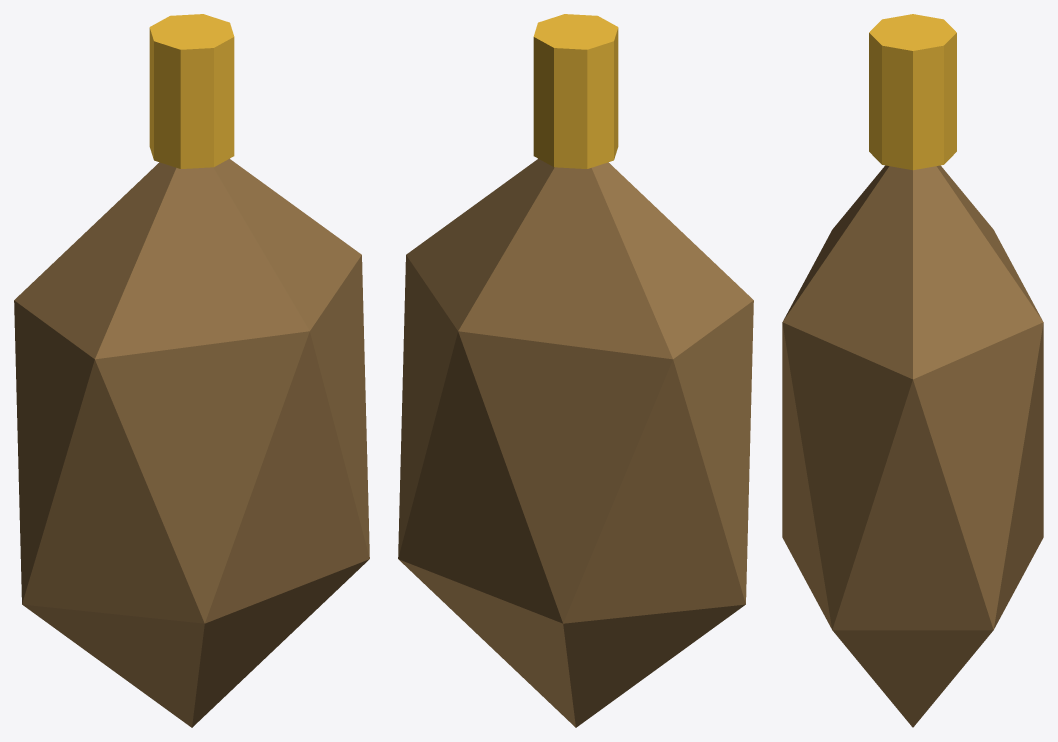
The model's file is Item_OR_Waterskin_00.glb.
3 renders of one model, left to right at view 1: azimuth 30°, elevation 25°; view 2: azimuth 150°, elevation 25°; view 3: azimuth 270°, elevation 25°, orthographic.
Visible parts, largest first — view 1: Item_OR_Waterskin_00; view 2: Item_OR_Waterskin_00; view 3: Item_OR_Waterskin_00.
Part boxes in pixels (left/top/right/bottom): Item_OR_Waterskin_00: left=14, top=14, right=369, bottom=727; Item_OR_Waterskin_00: left=398, top=14, right=753, bottom=727; Item_OR_Waterskin_00: left=782, top=14, right=1043, bottom=727.
Bounding box in the file's own units: 0.1789 × 0.35 × 0.1191.
